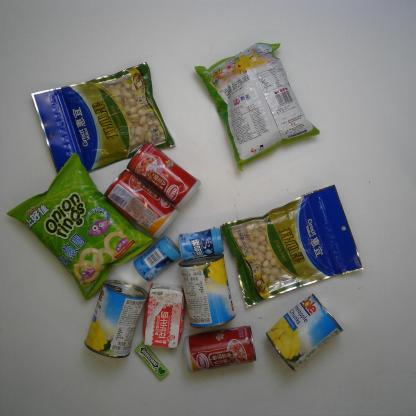Canned Food: (264, 292, 346, 376), (82, 280, 150, 360), (105, 170, 178, 236), (127, 143, 202, 207), (178, 253, 235, 329), (184, 324, 257, 372)
Dried Fruit: (220, 184, 366, 308), (30, 62, 177, 183)
Gum: (132, 236, 180, 281), (178, 226, 225, 260), (135, 342, 169, 378)
Milk: (142, 283, 184, 351)
Puffed Food: (6, 151, 154, 301), (194, 41, 319, 171)
